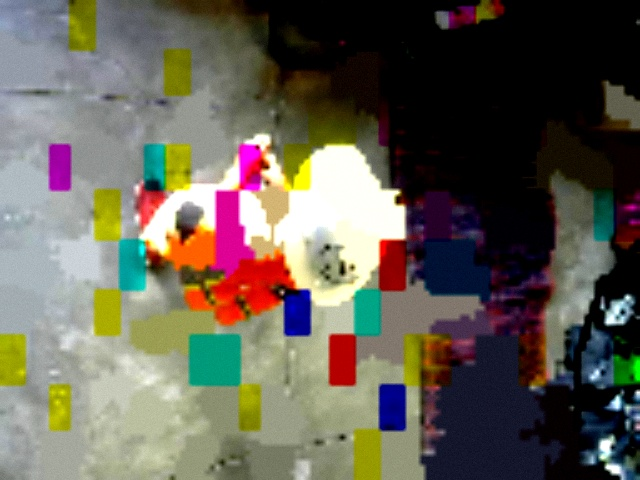eight: (316, 239, 365, 289)
